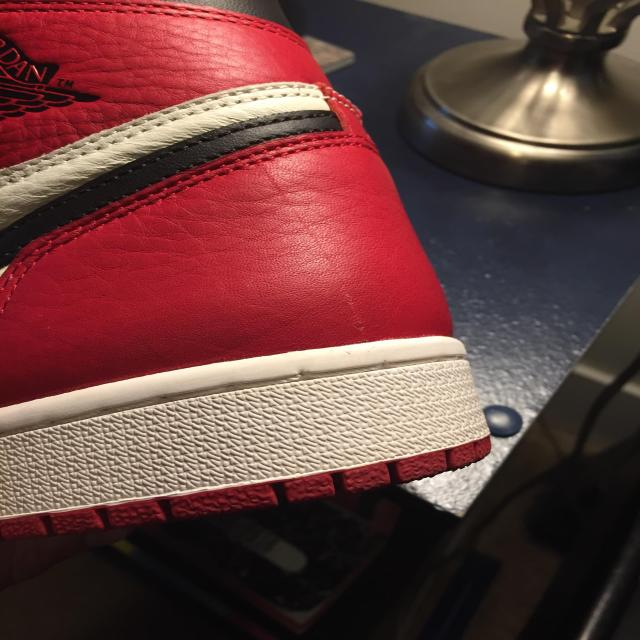shoe: (0, 0, 537, 565)
